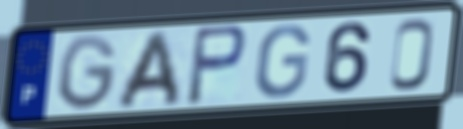0: (389, 16, 437, 93)
6: (323, 20, 374, 97)
A: (113, 28, 184, 111)
G: (56, 32, 120, 114), (252, 23, 313, 101)
P: (183, 23, 250, 109)
